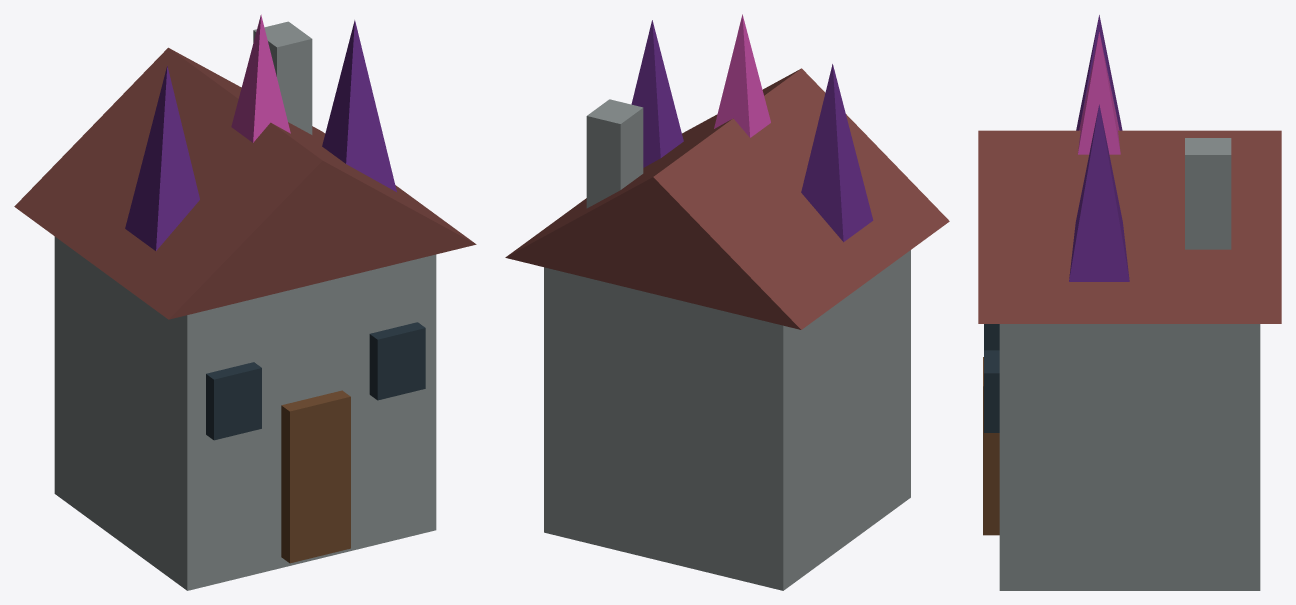
File: civilian.obj
The picture shows the model from 3 angles, left to right: view 1: azimuth 30°, elevation 25°; view 2: azimuth 150°, elevation 25°; view 3: azimuth 270°, elevation 25°; orthographic projection. The views are drawn at different scales.
Parts seen in each view (by area): view 1: civilian; view 2: civilian; view 3: civilian.
Part boxes in pixels (x1,y1,x2,y2): civilian: [14, 14, 476, 590]; civilian: [505, 14, 949, 590]; civilian: [978, 15, 1281, 590].
Bounding box in the file's own units: 1.71 × 2.7 × 1.48.
